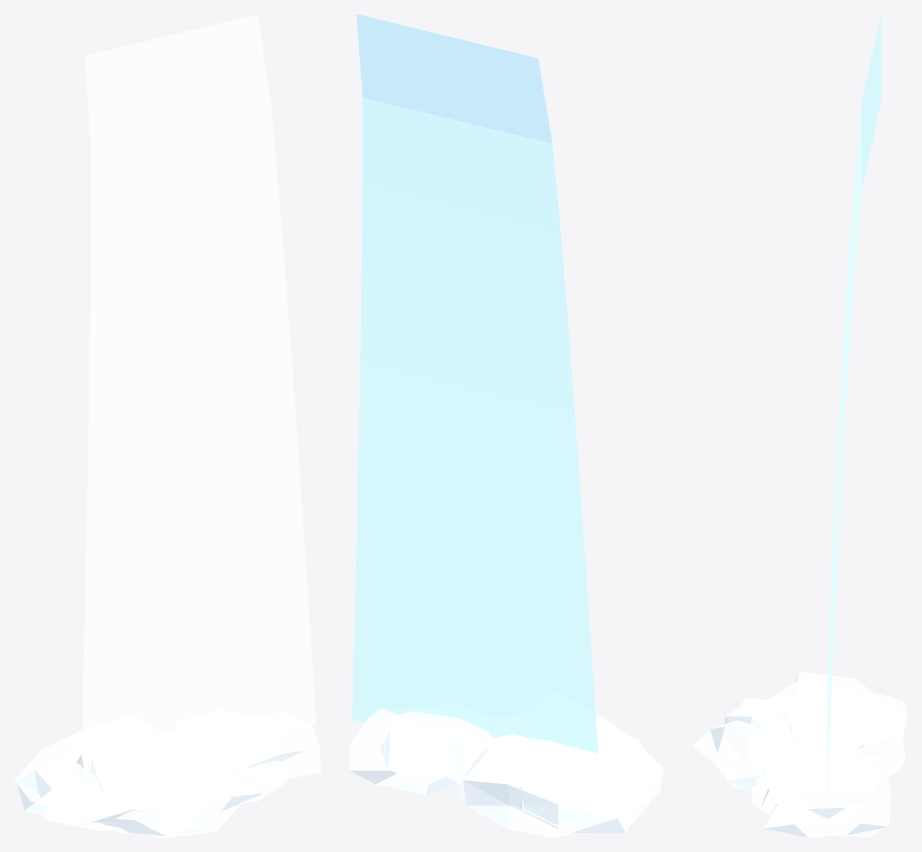
File: waterfall.glb
The picture shows the model from 3 angles, left to right: view 1: azimuth 30°, elevation 25°; view 2: azimuth 150°, elevation 25°; view 3: azimuth 270°, elevation 25°; orthographic projection. The views are drawn at different scales.
Size of the model in its own units: 0.0725 by 0.1824 by 0.0469.
